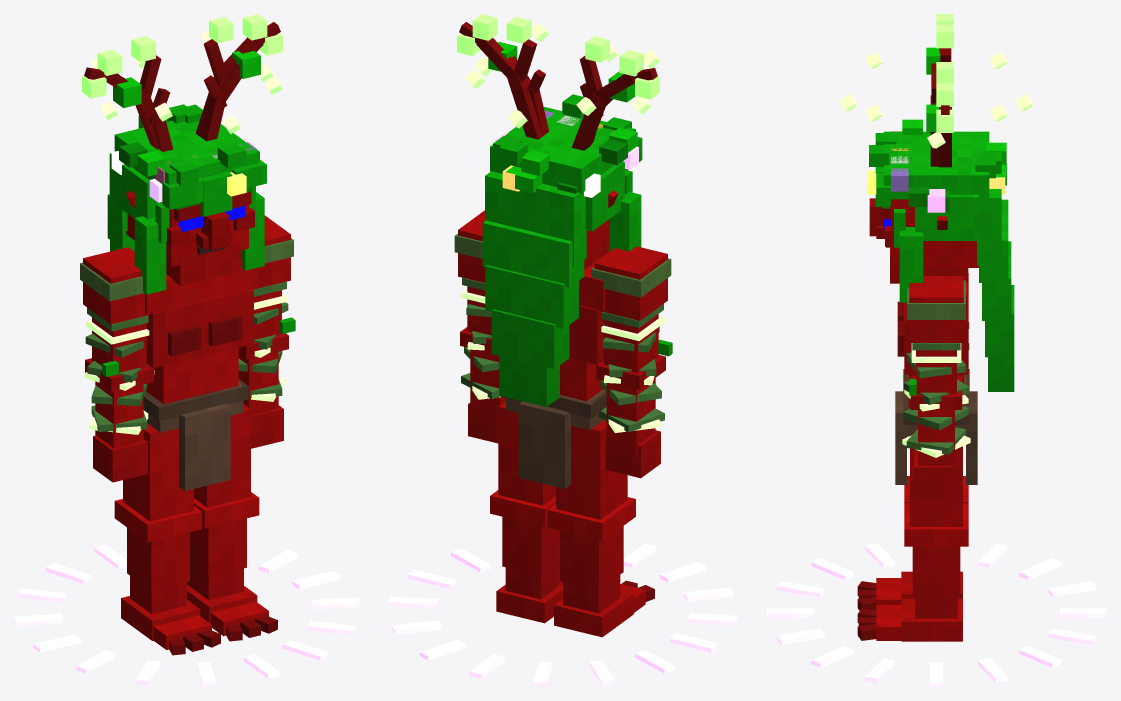
File: dryad_s1_evo3.glb
3 views of the same model, side by side, from view 1: azimuth 30°, elevation 25°; view 2: azimuth 150°, elevation 25°; view 3: azimuth 270°, elevation 25° (orthographic). The views are drawn at different scales.
Parts seen in each view (by area): view 1: Head, Torso, ArmR, LegR, LegL, Root, ArmL; view 2: Head, ArmR, LegR, Torso, LegL, Root, ArmL; view 3: Head, ArmL, LegL, Root, Torso, LegR.
Part boxes in pixels (left/top/right/bottom): Head: left=82, top=14, right=282, bottom=294; Torso: left=143, top=261, right=258, bottom=490; ArmR: left=80, top=247, right=154, bottom=482; LegR: left=114, top=423, right=211, bottom=649; LegL: left=187, top=404, right=268, bottom=636; Root: left=14, top=545, right=359, bottom=686; ArmL: left=238, top=215, right=295, bottom=448; Head: left=457, top=14, right=660, bottom=406; ArmR: left=591, top=246, right=672, bottom=478; LegR: left=547, top=420, right=645, bottom=637; Torso: left=501, top=251, right=609, bottom=488; LegL: left=490, top=401, right=562, bottom=623; Root: left=388, top=543, right=737, bottom=686; ArmL: left=454, top=210, right=505, bottom=443; Head: left=839, top=14, right=1033, bottom=391; ArmL: left=902, top=276, right=970, bottom=498; LegL: left=876, top=446, right=968, bottom=641; Root: left=766, top=543, right=1106, bottom=686; Torso: left=895, top=273, right=977, bottom=484; LegR: left=876, top=476, right=968, bottom=604.
Size of the model in its own units: 1.16 by 2.14 by 1.16.
Materials: 38 (38 with a texture image).
